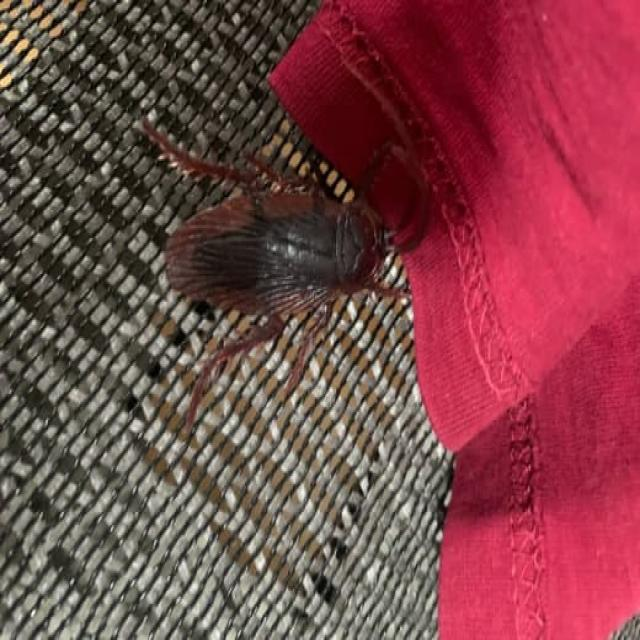Cockroach: (139, 107, 426, 435)
